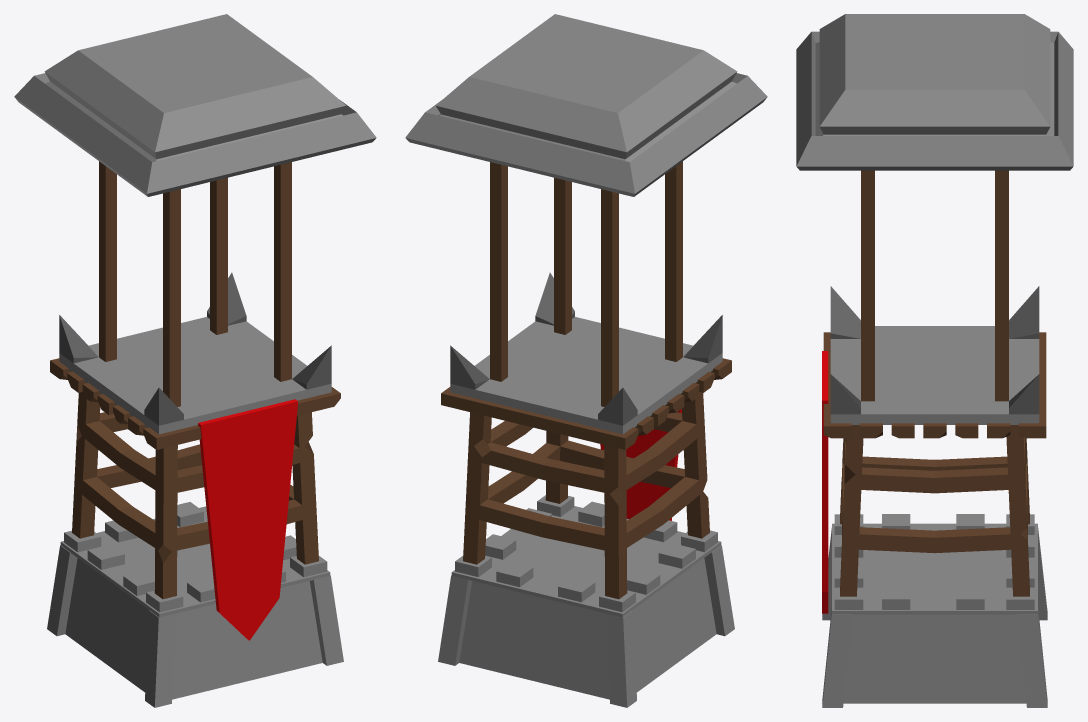
File: ArcherTower3Enemy.fbx
3 renders of one model, left to right at view 1: azimuth 30°, elevation 25°; view 2: azimuth 150°, elevation 25°; view 3: azimuth 270°, elevation 25°, orthographic. The views are drawn at different scales.
Parts seen in each view (by area): view 1: Tower3, Flag; view 2: Tower3, Flag; view 3: Tower3, Flag.
Part boxes in pixels (x1=…): Tower3: x1=14, y1=14, x2=376, y2=707; Flag: x1=198, y1=399, x2=298, y2=640; Tower3: x1=405, y1=14, x2=767, y2=707; Flag: x1=600, y1=409, x2=681, y2=520; Tower3: x1=796, y1=14, x2=1073, y2=707; Flag: x1=822, y1=351, x2=828, y2=613.
Bounding box in the file's own units: 2.07 × 5 × 2.07.
